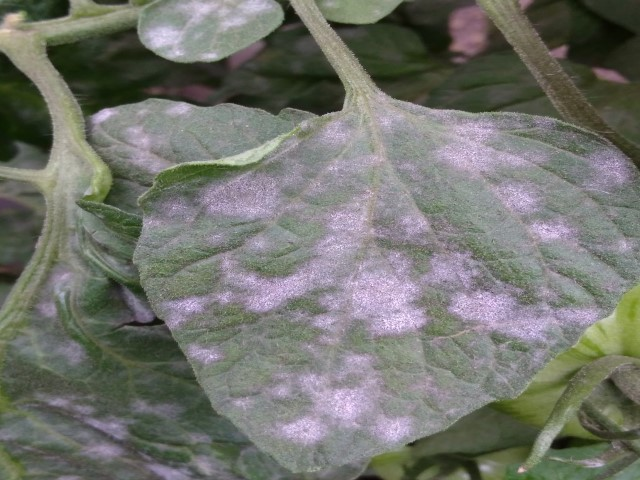oidio: (240, 224, 427, 335), (262, 352, 398, 442), (428, 249, 574, 328), (434, 120, 551, 169), (202, 167, 292, 222), (165, 295, 239, 327), (584, 147, 633, 194), (129, 125, 175, 173), (57, 333, 93, 368), (532, 215, 572, 242), (501, 182, 534, 211), (188, 348, 225, 367)
